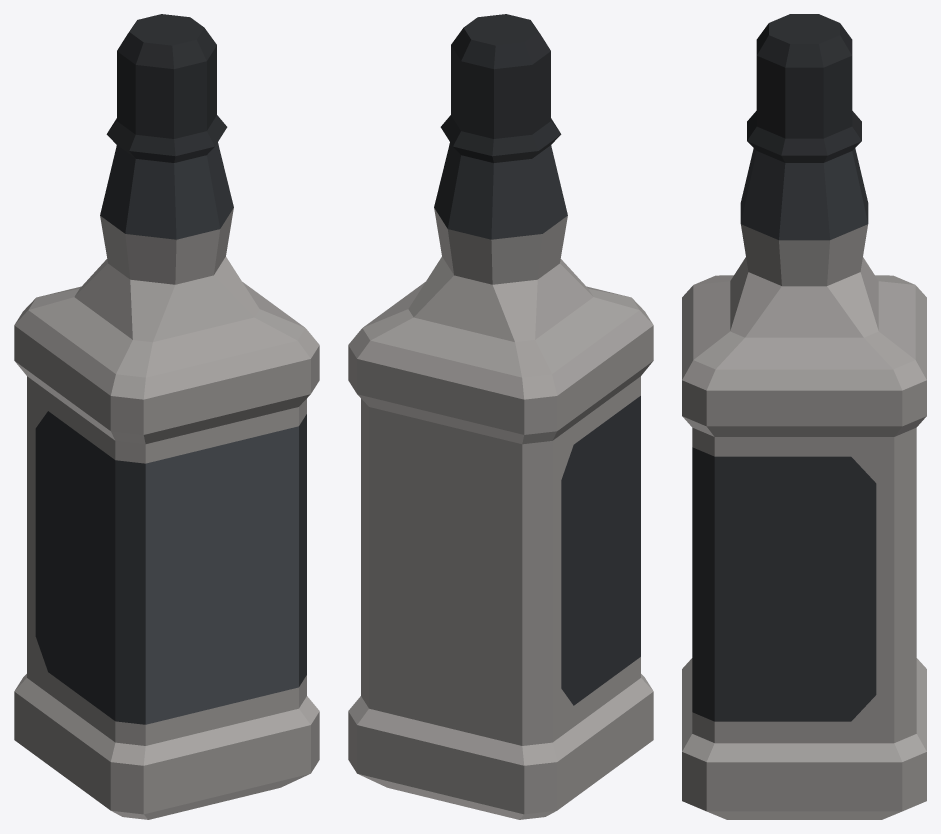
Rendered from SM_Prop_Alcohol_Bottle_01.glb.
3 renders of one model, left to right at view 1: azimuth 30°, elevation 25°; view 2: azimuth 150°, elevation 25°; view 3: azimuth 270°, elevation 25°, orthographic.
Parts seen in each view (by area): view 1: SM_Prop_Alcohol_Bottle_01; view 2: SM_Prop_Alcohol_Bottle_01; view 3: SM_Prop_Alcohol_Bottle_01.
Part boxes in pixels (x1=…): SM_Prop_Alcohol_Bottle_01: x1=14, y1=14, x2=319, y2=819; SM_Prop_Alcohol_Bottle_01: x1=348, y1=14, x2=653, y2=819; SM_Prop_Alcohol_Bottle_01: x1=682, y1=14, x2=926, y2=819.
Bounding box in the file's own units: 0.1272 × 0.4298 × 0.1272.
Materials: 1 (1 with a texture image).
